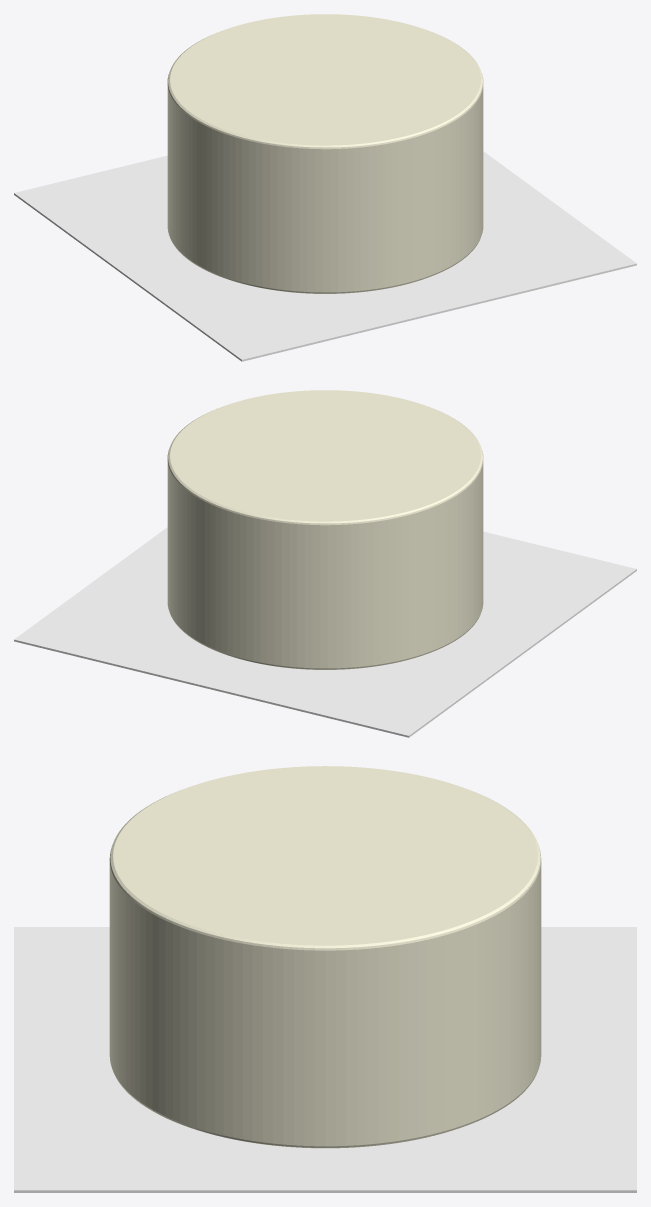
Rendered from cake_6in_layers2_v26.glb.
3 renders of one model, top to bottom at view 1: azimuth 30°, elevation 25°; view 2: azimuth 150°, elevation 25°; view 3: azimuth 270°, elevation 25°, orthographic. The views are drawn at different scales.
Parts seen in each view (by area): view 1: Cake, Board; view 2: Cake, Board; view 3: Cake, Board.
Boxes of the visible parts, x1,y1,x2,y2 form: Cake: [167, 14, 483, 293]; Board: [14, 151, 636, 361]; Cake: [167, 390, 483, 669]; Board: [14, 527, 636, 737]; Cake: [109, 766, 541, 1148]; Board: [14, 927, 636, 1192].
Size of the model in its own units: 0.22 by 0.08 by 0.22.
